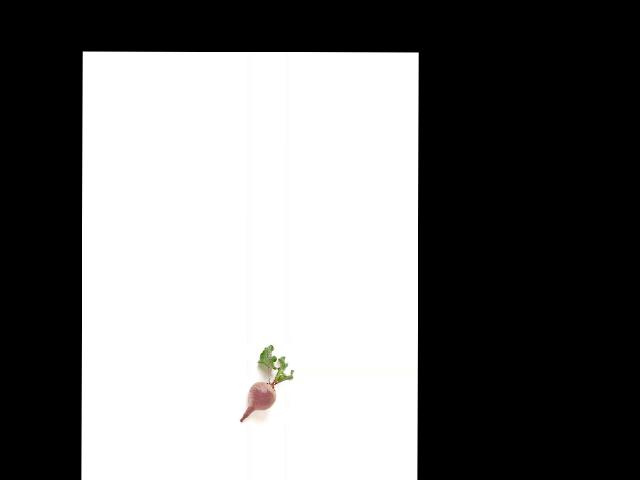beet: (239, 344, 294, 421)
